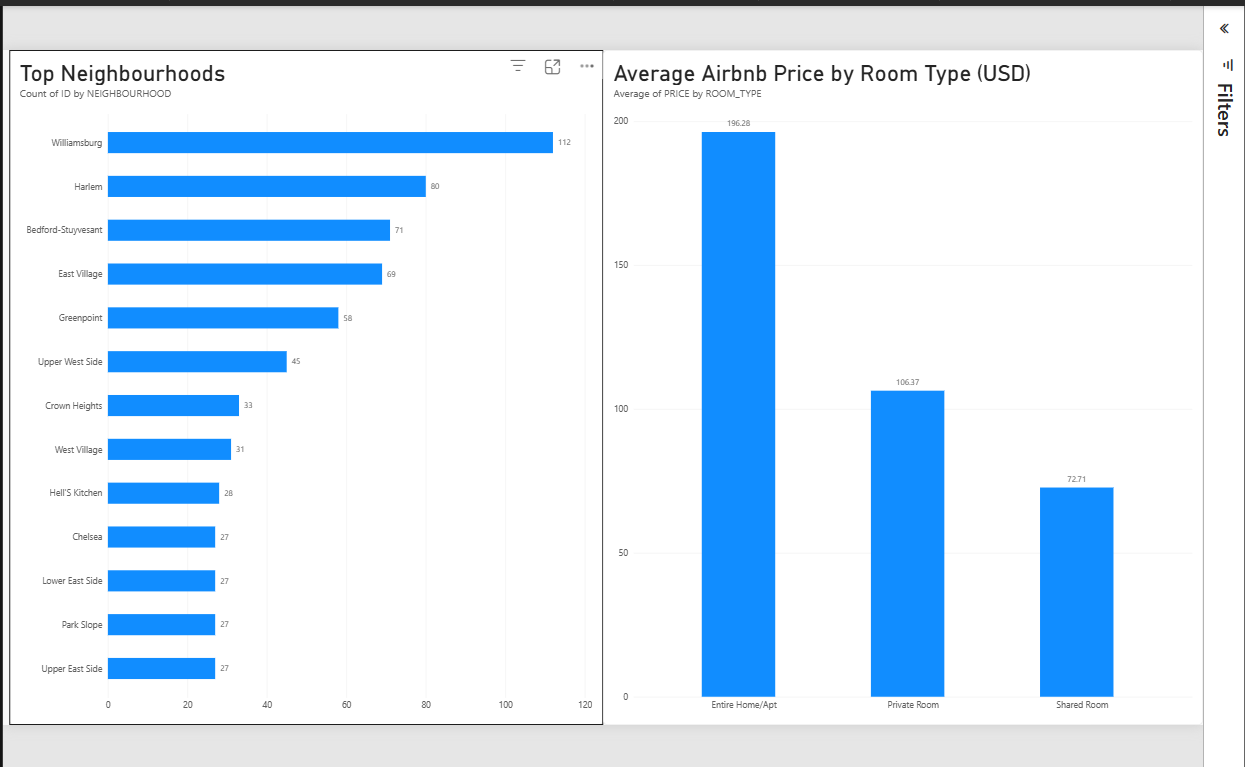

Layout of this report page (visuals, bound fields, positions):
{"tool":"powerbi","page":{"name":"Neighbourhood Analysis","canvas":[1920,1080],"ordinal":2},"visuals":[{"type":"clusteredBarChart","title":"Top Neighbourhoods","fields":{"Category":["Cleaned Data.NEIGHBOURHOOD"],"Y":["CountNonNull(Cleaned Data.ID)"]},"box":[10,0,950,1080],"z":0},{"type":"clusteredColumnChart","title":"Average Airbnb Price by Room Type (USD)","fields":{"Category":["Cleaned Data.ROOM_TYPE"],"Y":["Avg(Cleaned Data.PRICE)"]},"box":[960,0,960,1080],"z":1}]}

Visuals, with their boxes on the page's 1920x1080 design canvas (x1, y1, x2, y2). These are canvas units, not pixel positions in the 1245x767 screenshot, which may show the page scaled, cropped or inside an application window:
"Top Neighbourhoods" clusteredBarChart: region(10, 0, 960, 1080)
"Average Airbnb Price by Room Type (USD)" clusteredColumnChart: region(960, 0, 1920, 1080)
